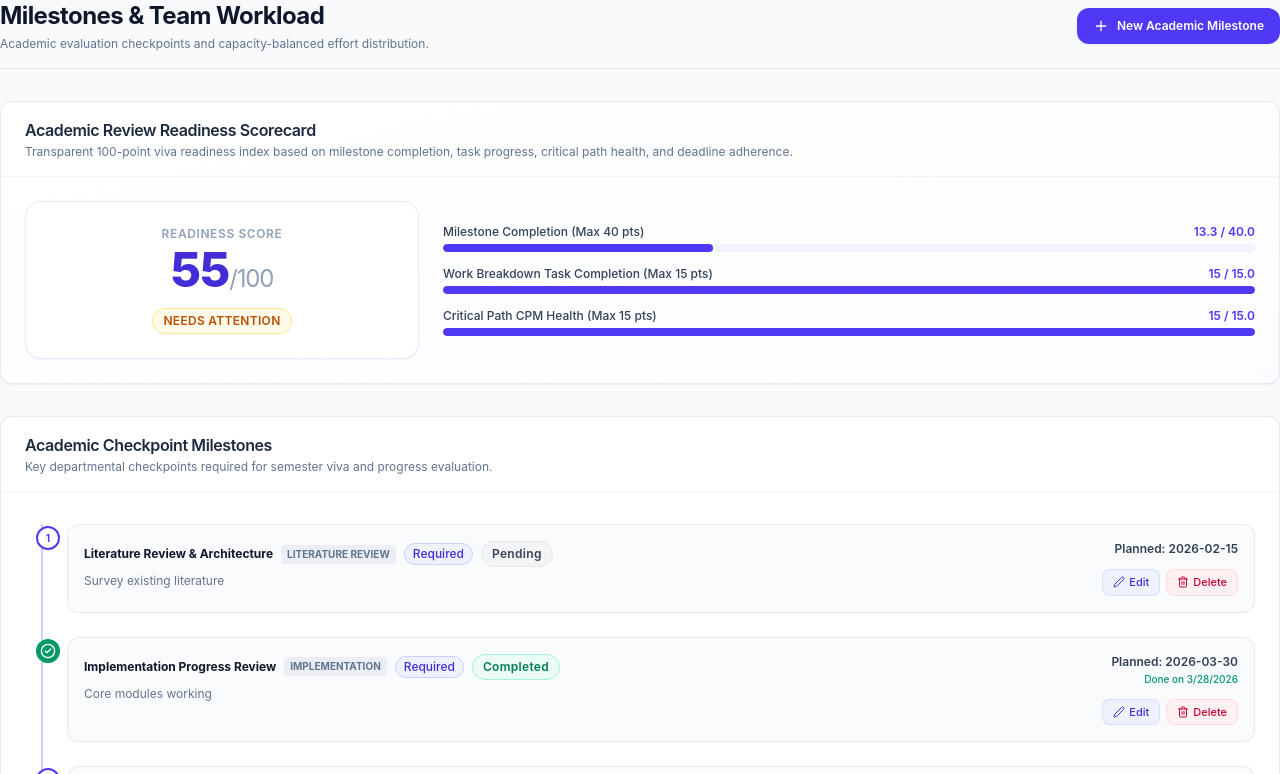
Scenario: Academic Milestone Status Feature (Pending vs Completed) › provides exactly two options (Pending and Completed) in the Status dropdown and loads current status
Expected: the text "Implementation Progress Review" is shown, [84,658,276,674]
Note: Click Edit on Milestone 2 (which is 'completed')
Click the button "Edit" below "Done on": (1131, 712) [1102,698,1160,725]
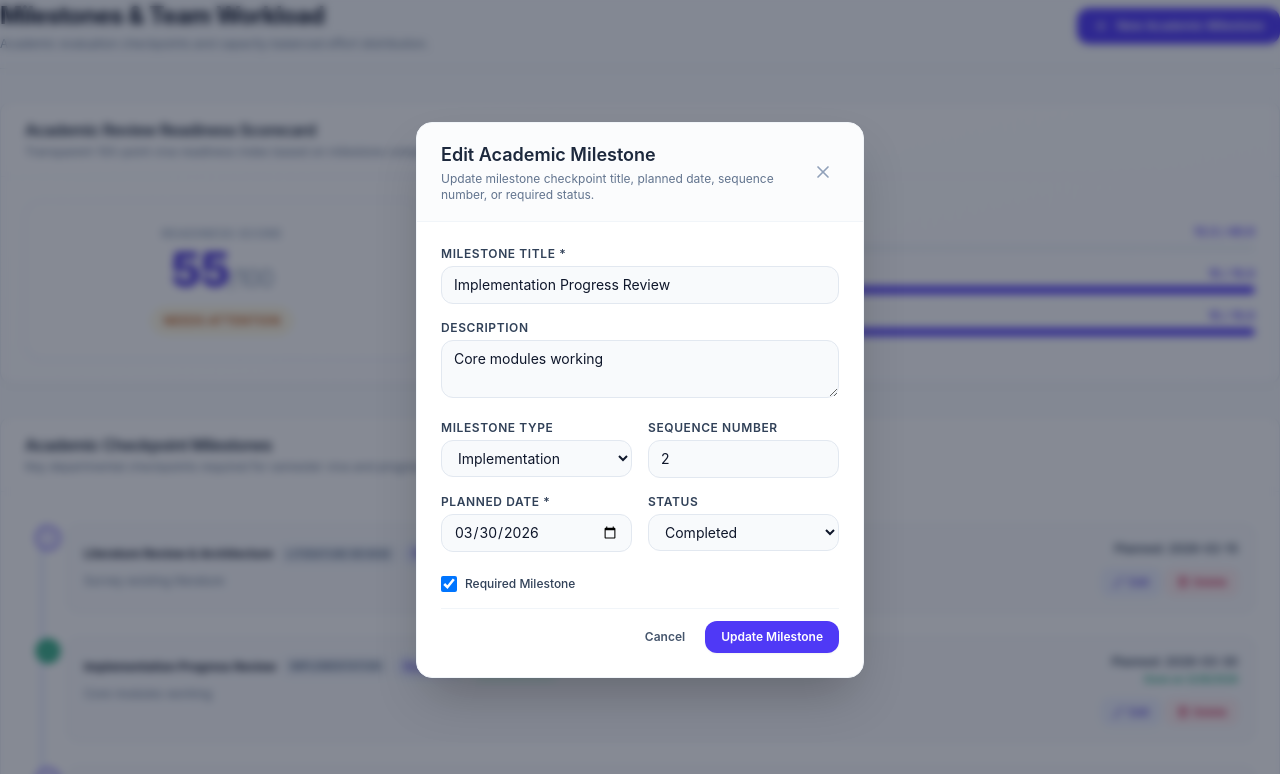
Now the heading "Edit Academic Milestone" is shown, box [441,144,656,165]
Now the dropdown with test id "milestone-status-select" shows "Completed", box [648,514,839,551]
